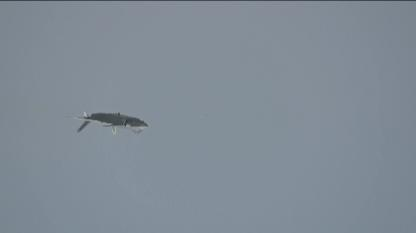F4: (64, 112, 148, 134)
